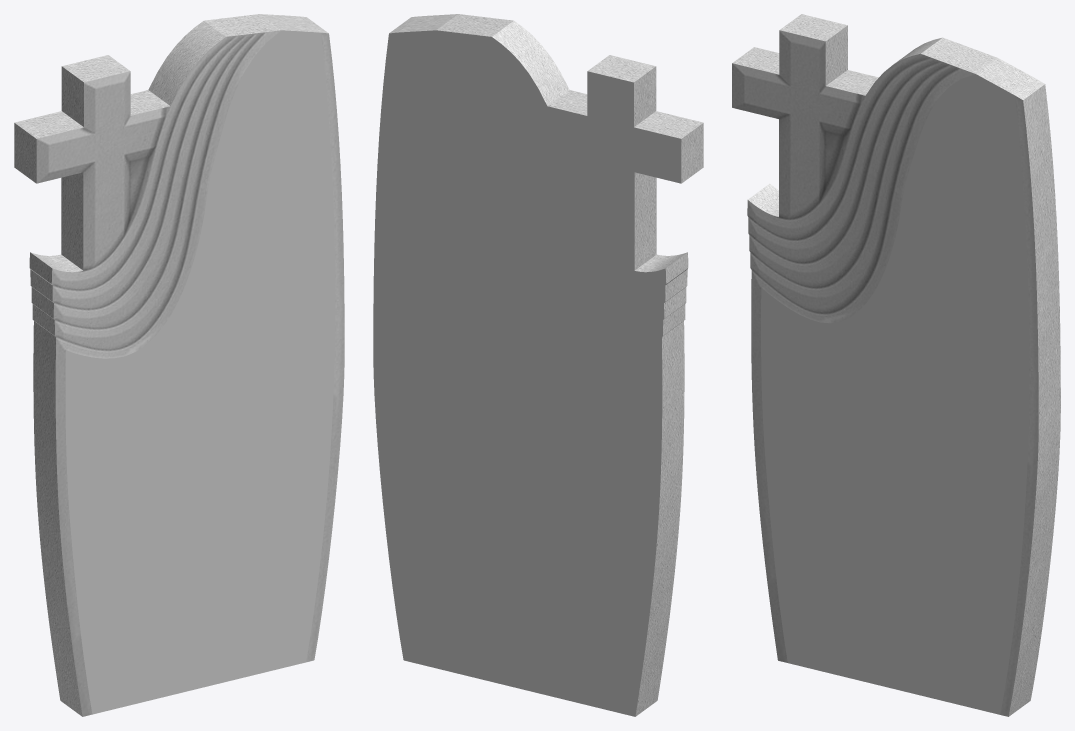
File: cnf9d92acf2c_tkf.glb
3 views of the same model, side by side, from view 1: azimuth 30°, elevation 25°; view 2: azimuth 150°, elevation 25°; view 3: azimuth 330°, elevation 25° (orthographic).
Visible parts, largest first — view 1: Pam-d01-249, Pam-d01-249_2_notexture; view 2: Pam-d01-249, Pam-d01-249_2_notexture; view 3: Pam-d01-249, Pam-d01-249_2_notexture.
Part boxes in pixels (<box>): Pam-d01-249: <box>65,30,335,714</box>; Pam-d01-249_2_notexture: <box>14,14,344,716</box>; Pam-d01-249: <box>373,30,681,716</box>; Pam-d01-249_2_notexture: <box>389,14,703,716</box>; Pam-d01-249: <box>761,74,1029,714</box>; Pam-d01-249_2_notexture: <box>732,14,1060,716</box>.
Bounding box in the file's own units: 0.4 × 0.8 × 0.05.
1 material, 1 textured.
